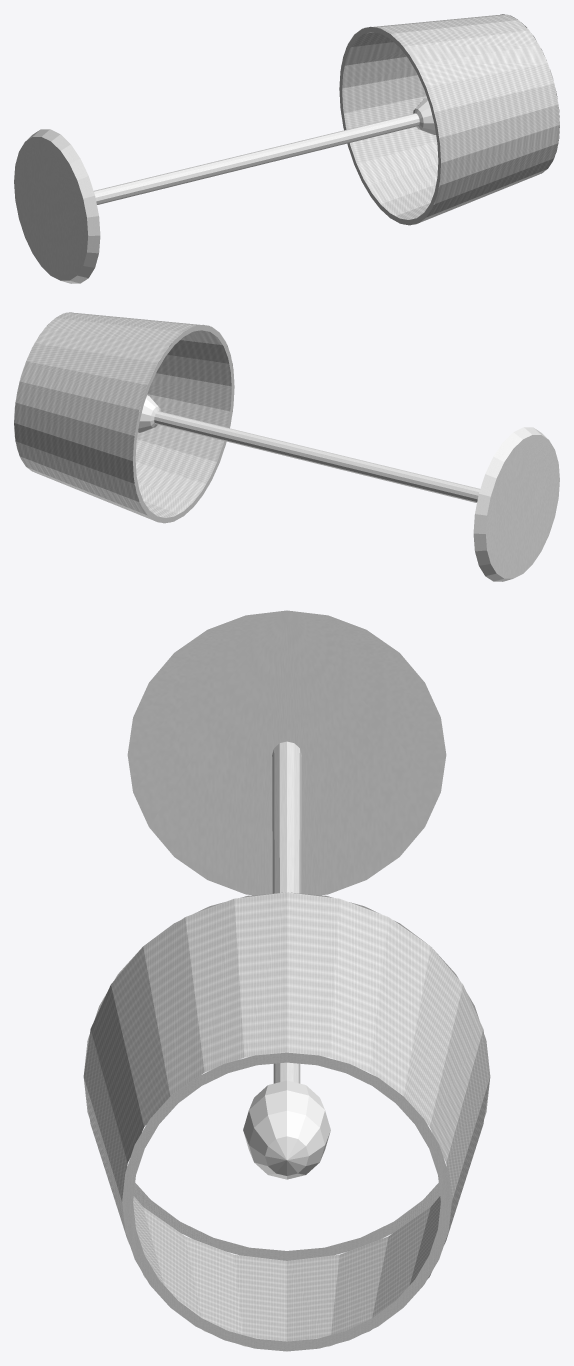
The model's file is standingdrumfloorlamp.obj.
The picture shows the model from 3 angles, top to bottom: view 1: azimuth 30°, elevation 25°; view 2: azimuth 150°, elevation 25°; view 3: azimuth 270°, elevation 25°; orthographic projection. The views are drawn at different scales.
Visible parts, largest first — view 1: Shade, Base, Metal, Trim, Light0; view 2: Shade, Base, Metal, Trim, Light0; view 3: Shade, Base, Trim, Light0, Metal.
Boxes of the visible parts, box(x1,y1,x2,y2) form: Shade: box(341, 14, 559, 224); Base: box(14, 129, 100, 283); Metal: box(93, 113, 419, 204); Trim: box(339, 14, 559, 225); Light0: box(413, 97, 435, 134); Shade: box(14, 312, 232, 522); Base: box(473, 427, 559, 581); Metal: box(154, 411, 480, 502); Trim: box(14, 312, 234, 523); Light0: box(138, 395, 160, 432); Shade: box(83, 892, 490, 1346); Base: box(127, 610, 446, 895); Trim: box(83, 892, 490, 1351); Light0: box(243, 1080, 330, 1179); Metal: box(272, 741, 301, 1083).
Size of the model in its own units: 1.97 by 0.74 by 0.74.
